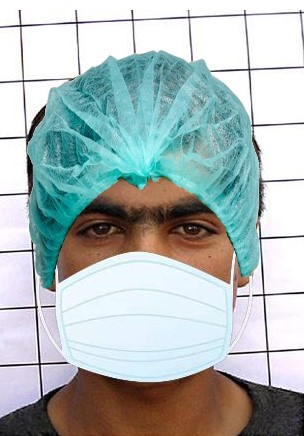with_mask_and_cap: (28, 58, 260, 382)
